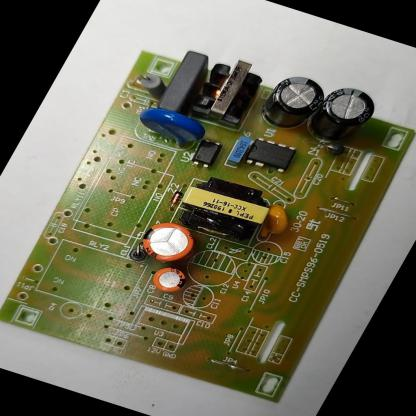Cap1: (132, 215, 203, 270)
Cap2: (146, 264, 191, 298)
Cap3: (253, 68, 330, 136)
Cap4: (304, 80, 383, 149)
MOSFET: (240, 133, 299, 176)
Mov: (127, 102, 210, 154)
Resistor: (129, 71, 170, 101)
Transformer: (167, 170, 276, 245), (183, 52, 268, 127)
